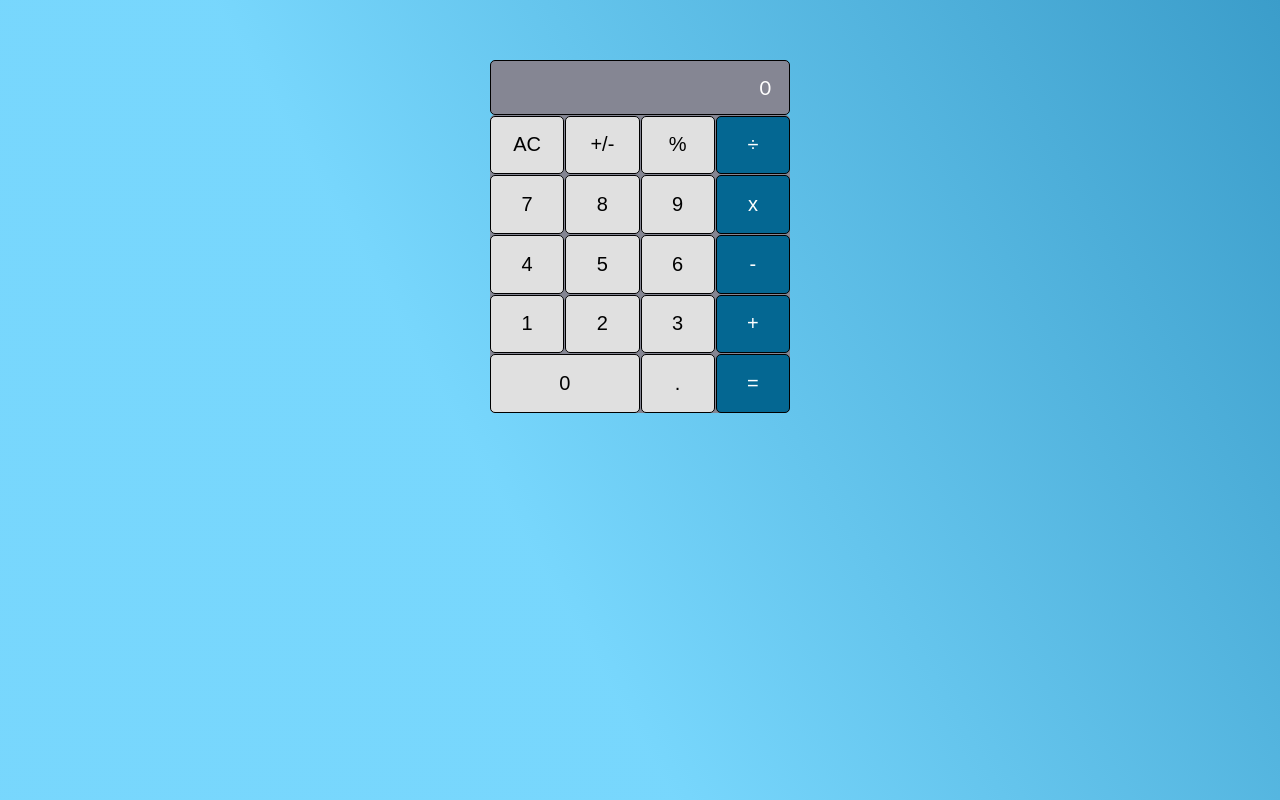
Test case: When a button is pressed, it should show the value on the screen › should display 23
Click the button "2": (602, 324) [565,295,640,353]
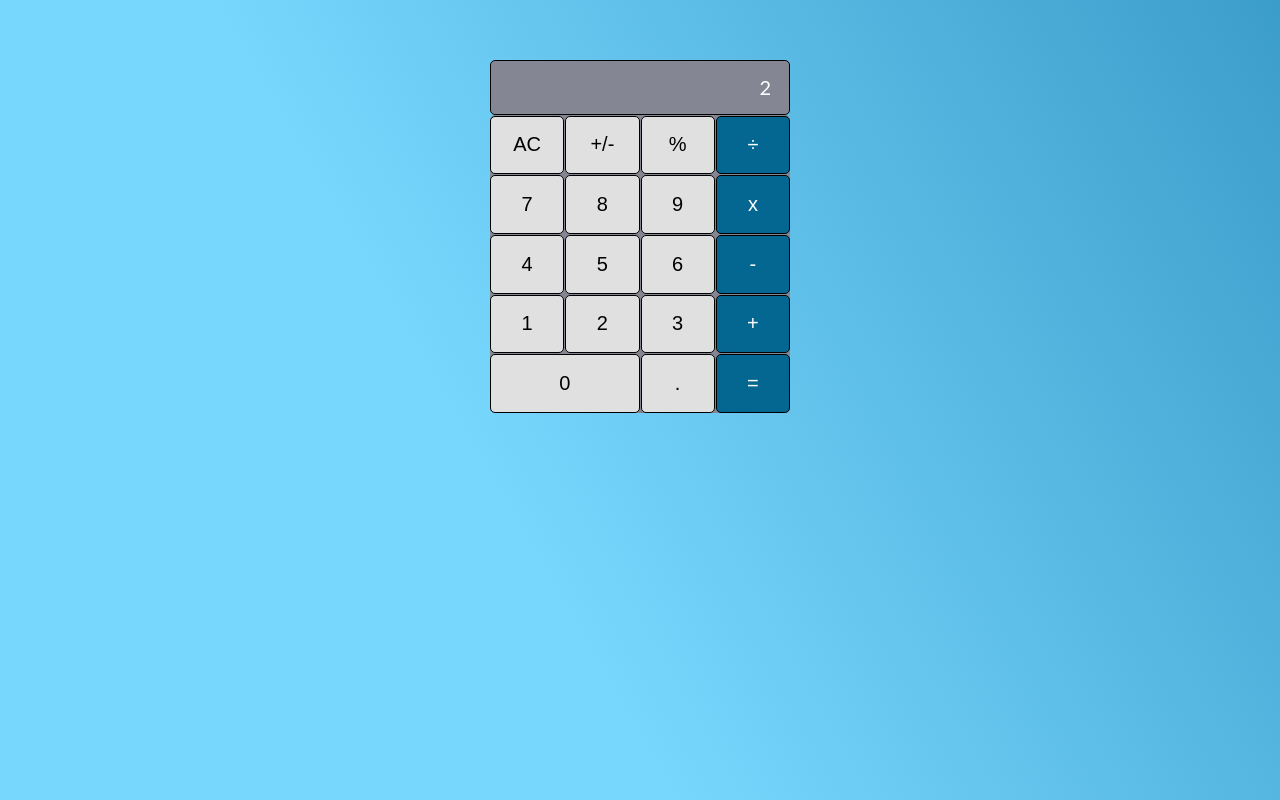
Click the button "3": (678, 324) [640,295,715,353]
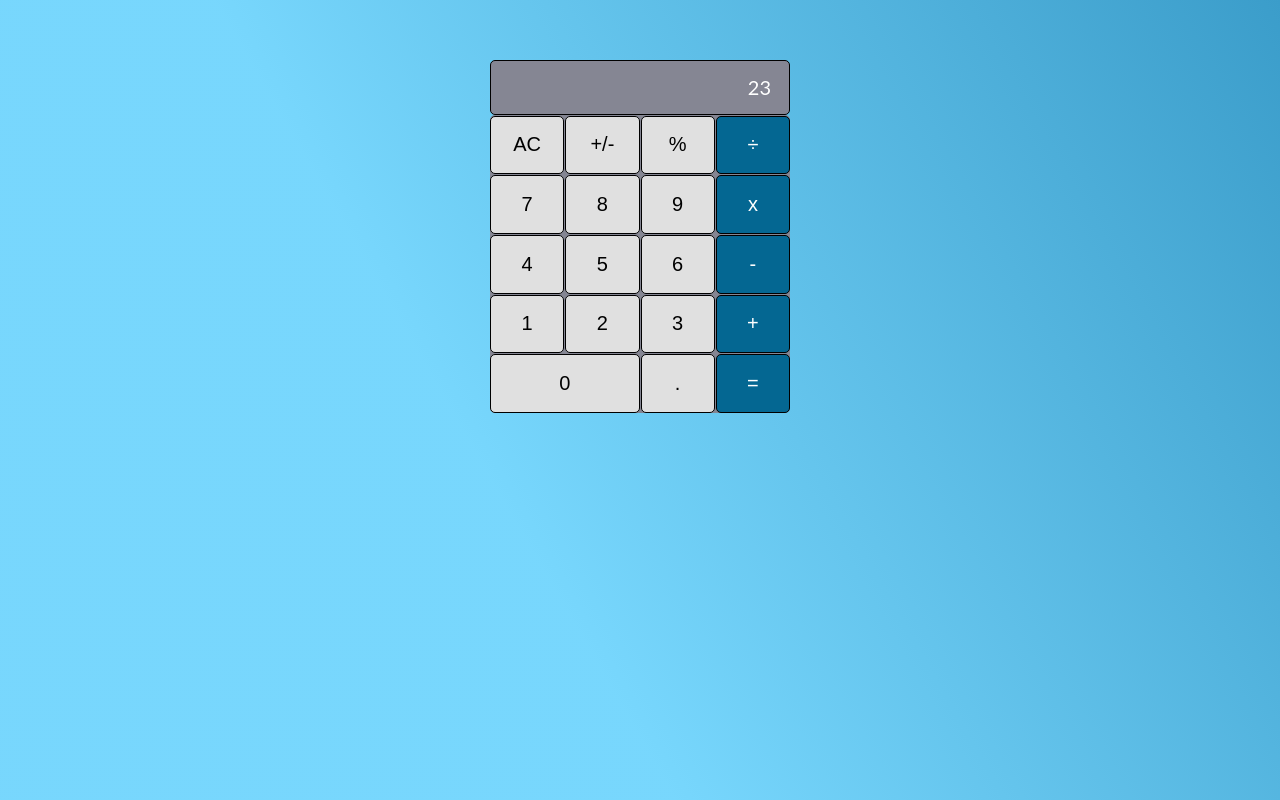
Result: the element with class "result" reads "23" at [748,75,771,99]
